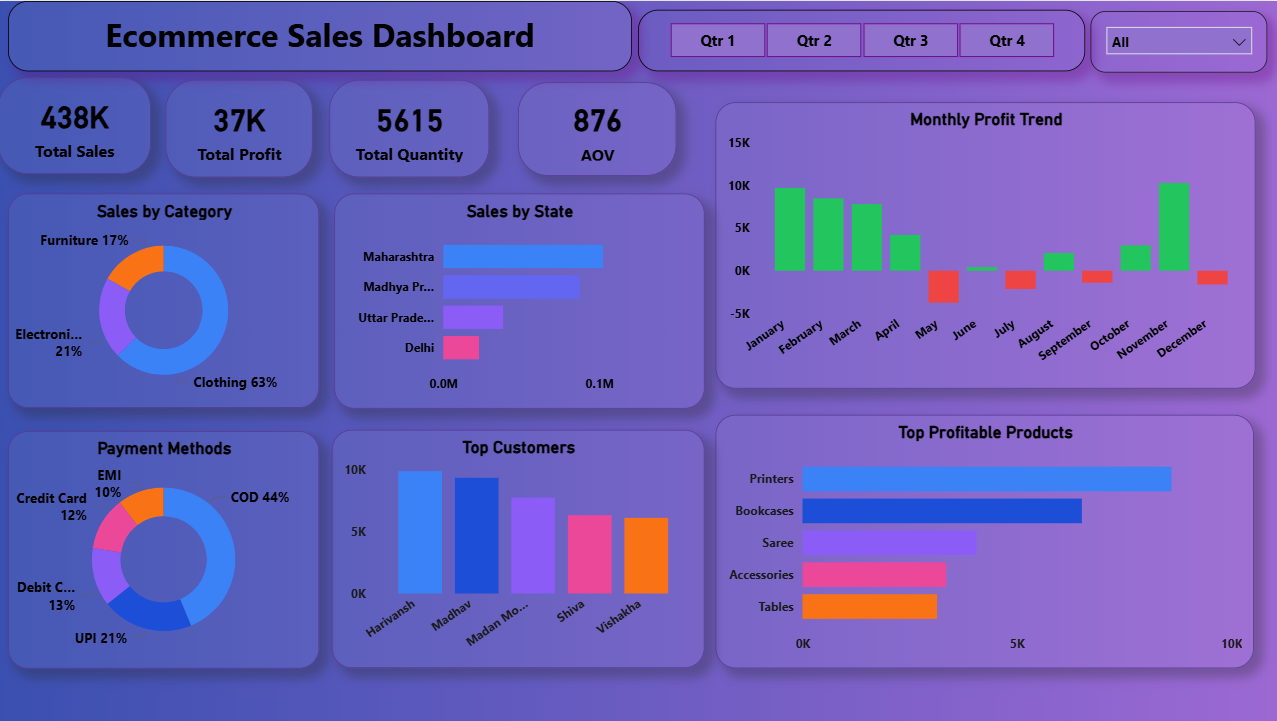

This screenshot's page, from the dashboard's own definition file:
{"tool":"powerbi","page":{"name":"Dashboard","canvas":[1280,720],"ordinal":0},"visuals":[{"type":"textbox","box":[10,0,624.3,70],"z":0},{"type":"columnChart","title":"Monthly Profit Trend","fields":{"Category":["Orders.Order Date.Variation.Date Hierarchy.Month"],"Y":["Sum(Details.Profit)"]},"box":[717.5,101.2,540,286.2],"z":1000},{"type":"barChart","title":"Top Profitable Products","fields":{"Category":["Details.Sub-Category"],"Y":["Sum(Details.Profit)"]},"box":[717.5,413.8,538.8,253.8],"z":2000},{"type":"donutChart","title":"Sales  by Category","fields":{"Category":["Details.Category"],"Y":["Sum(Details.Quantity)"]},"box":[10,192.9,311.4,214.3],"z":3000},{"type":"donutChart","title":"Payment Methods","fields":{"Y":["Sum(Details.Quantity)"],"Category":["Details.PaymentMode"]},"box":[10,430,311.2,237.5],"z":4000},{"type":"card","fields":{"Values":["Details.Total Sales"]},"box":[0,75.7,152.9,97.1],"z":5000},{"type":"card","fields":{"Values":["Details.Total Profit"]},"box":[167.5,78.8,147.5,97.5],"z":6000},{"type":"card","fields":{"Values":["Details.Total Quantity"]},"box":[331.2,78.8,160,97.5],"z":7000},{"type":"card","fields":{"Values":["Details.AOV"]},"box":[520,81.2,158.8,93.8],"z":8000},{"type":"clusteredBarChart","title":"Sales by State","fields":{"Y":["Sum(Details.Amount)"],"Category":["Orders.State"]},"box":[336.2,192.5,370,215],"z":9000},{"type":"columnChart","title":"Top Customers","fields":{"Category":["Orders.CustomerName"],"Y":["Sum(Details.Amount)"]},"box":[333.8,428.8,372.5,238.8],"z":10000},{"type":"slicer","fields":{"Values":["Orders.Order Date.Variation.Date Hierarchy.Quarter"]},"box":[640,8.6,447.1,61.4],"z":11000},{"type":"slicer","fields":{"Values":["Orders.State"]},"box":[1092.9,10,177.1,61.4],"z":12000}]}

Visuals, with their boxes in screenshot pixels (x1, y1, x2, y2), scaled from the page's 1280x720 canvas onto the 1277x721 screenshot:
textbox: locate(10, 0, 633, 70)
"Monthly Profit Trend" columnChart: locate(716, 101, 1255, 388)
"Top Profitable Products" barChart: locate(716, 414, 1253, 669)
"Sales  by Category" donutChart: locate(10, 193, 321, 408)
"Payment Methods" donutChart: locate(10, 431, 320, 668)
card - Details.Total Sales: locate(0, 76, 153, 173)
card - Details.Total Profit: locate(167, 79, 314, 177)
card - Details.Total Quantity: locate(330, 79, 490, 177)
card - Details.AOV: locate(519, 81, 677, 175)
"Sales by State" clusteredBarChart: locate(335, 193, 705, 408)
"Top Customers" columnChart: locate(333, 429, 705, 669)
slicer - Orders.Order Date.Variation.Date Hierarchy.Quarter: locate(638, 9, 1085, 70)
slicer - Orders.State: locate(1090, 10, 1267, 71)
